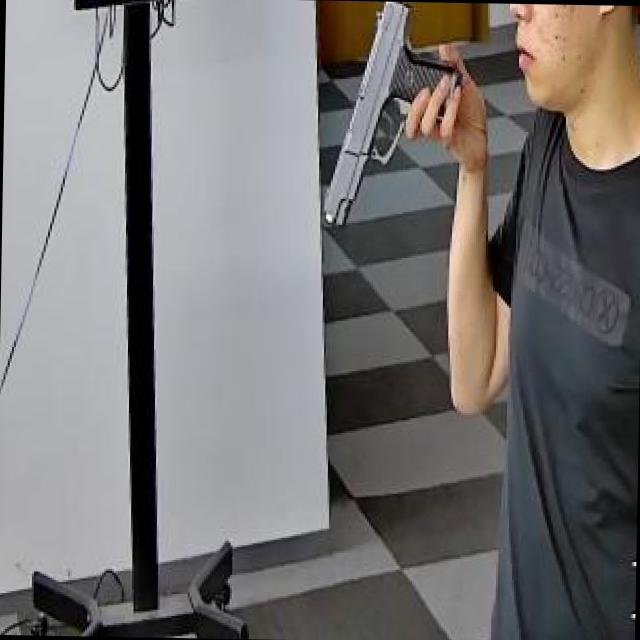Guns: (313, 0, 474, 269)
